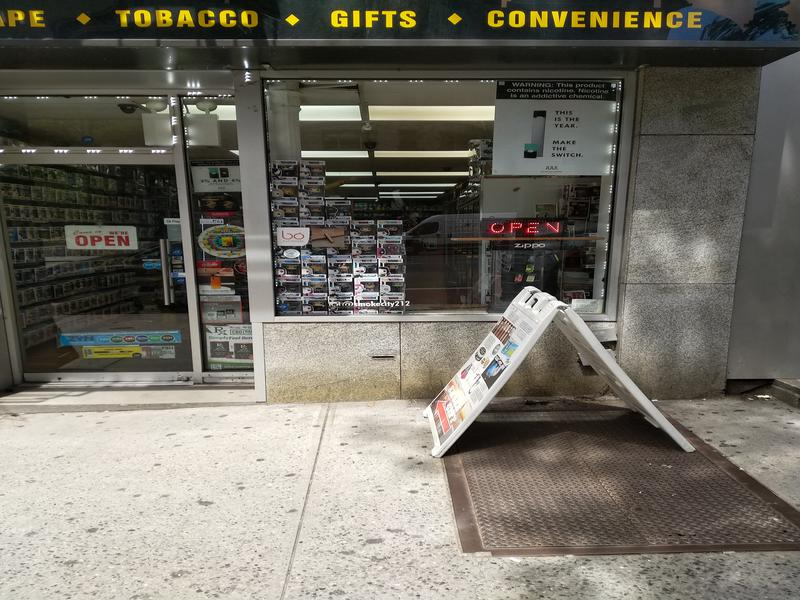door: (1, 144, 214, 389)
